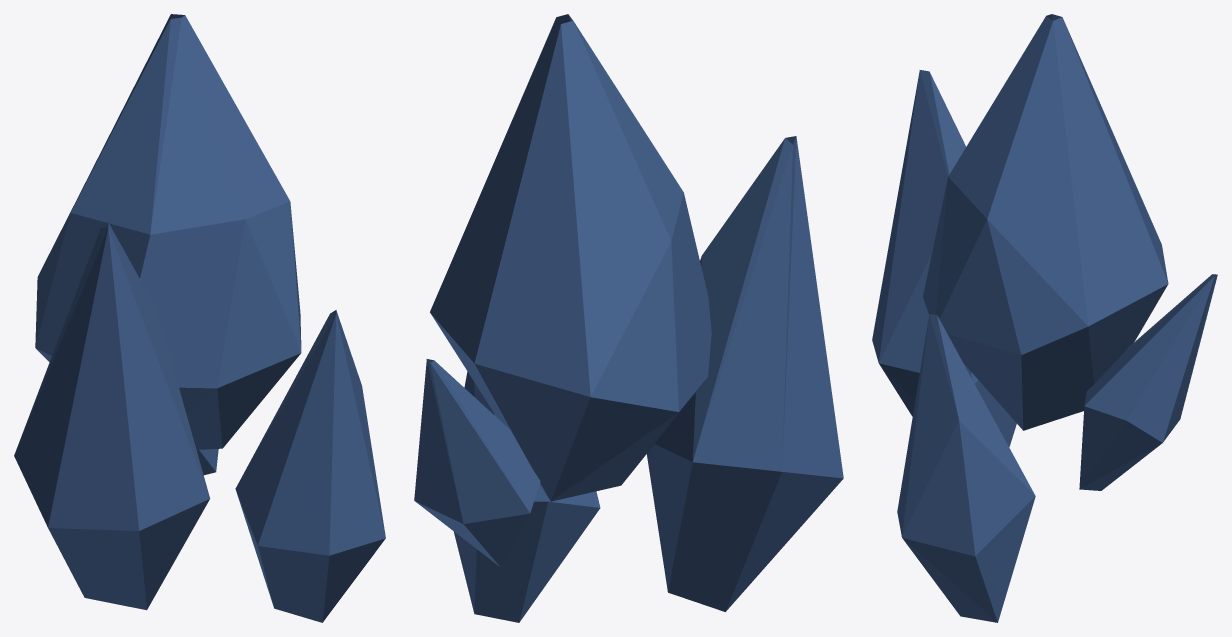
Rendered from tree-winter-leaves-005.glb.
3 views of the same model, side by side, from view 1: azimuth 30°, elevation 25°; view 2: azimuth 150°, elevation 25°; view 3: azimuth 270°, elevation 25° (orthographic). The views are drawn at different scales.
Parts seen in each view (by area): view 1: Circle.038_126; view 2: Circle.038_126; view 3: Circle.038_126.
Boxes of the visible parts, bbox=[...] form: Circle.038_126: bbox=[14, 14, 385, 622]; Circle.038_126: bbox=[414, 14, 843, 622]; Circle.038_126: bbox=[872, 14, 1217, 622].
Size of the model in its own units: 0.7417 by 1.23 by 0.6911.
